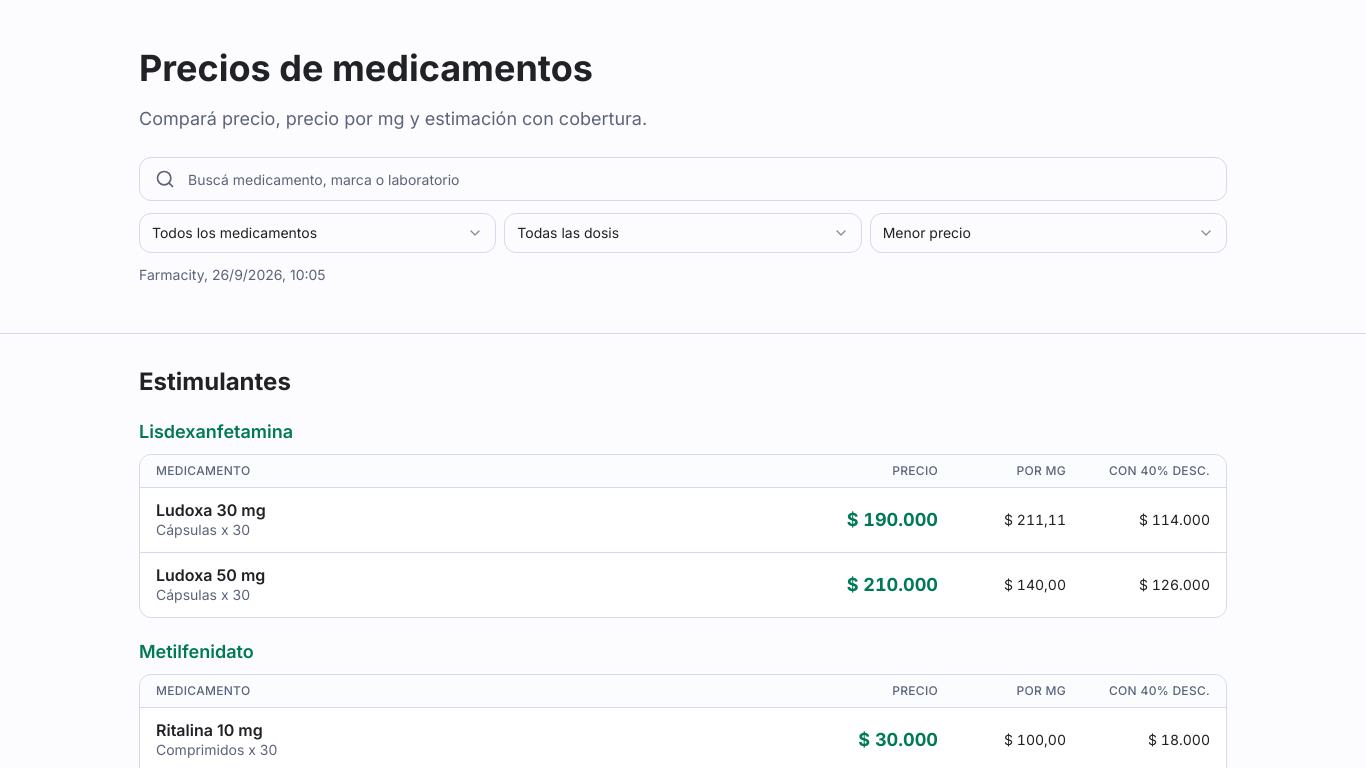
Scenario: PricesClient › says when nothing matches the search
In the search field: (683, 179) top-left (139, 157), bottom-right (1227, 201), type "zzzz"
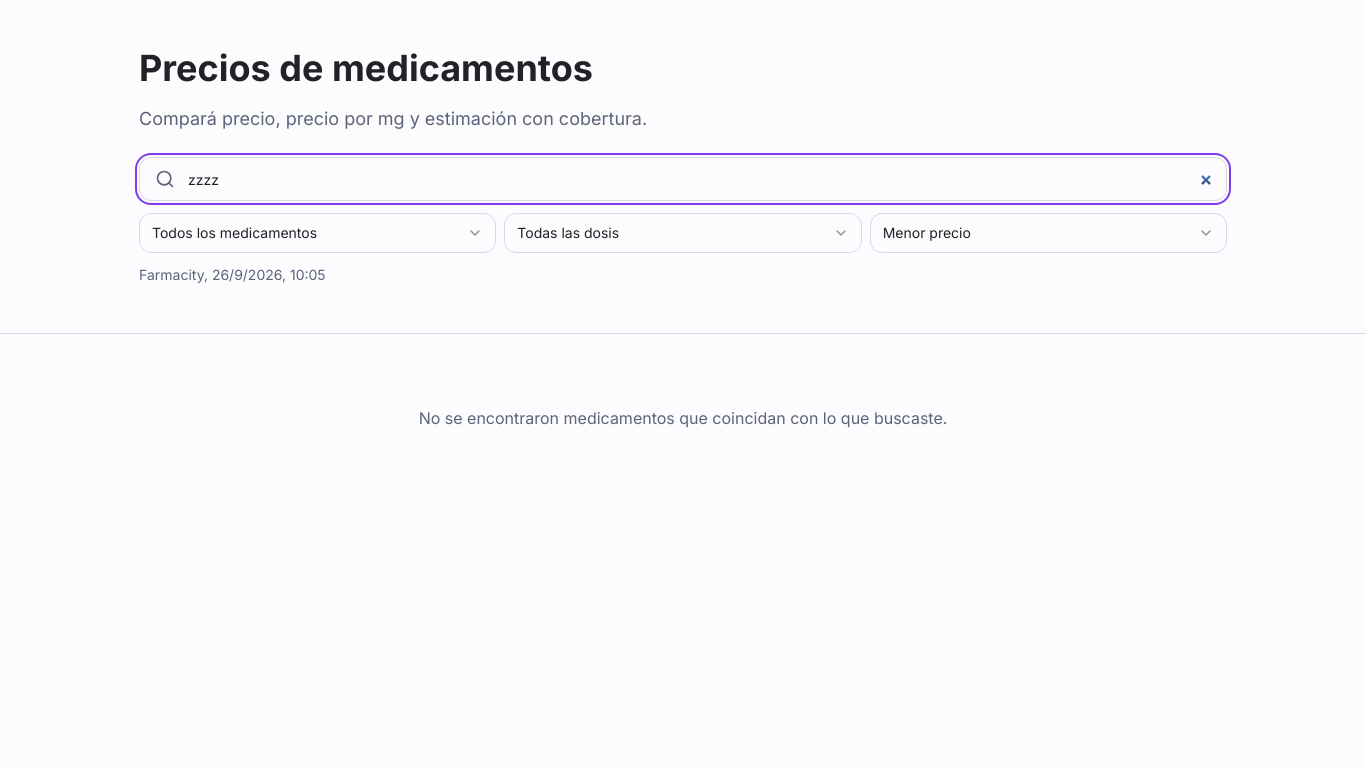
Now the text "No se encontraron medicamentos" is shown, box top-left (419, 408), bottom-right (947, 428)
